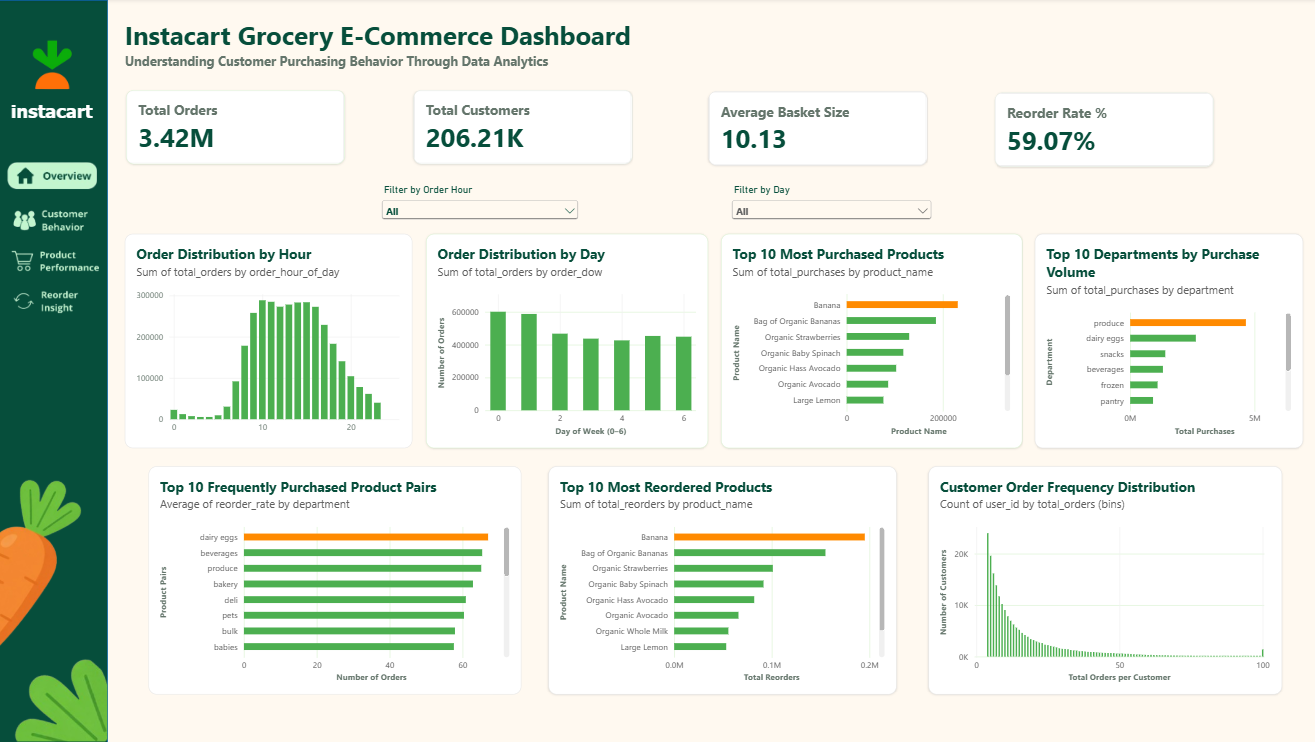

What the dashboard file says about the page in this screenshot:
{"tool":"powerbi","page":{"name":"Overview","canvas":[1920,1080],"ordinal":0},"visuals":[{"type":"shape","box":[0,0,162.5,1082.5],"z":0},{"type":"textbox","box":[187.5,25,877.5,62.5],"z":1000},{"type":"textbox","box":[187.5,57.5,735,87.5],"z":2000},{"type":"cardVisual","fields":{"Data":["Sum(KPI.Value)"]},"box":[188.6,131.4,318.3,108.3],"z":3000},{"type":"cardVisual","fields":{"Data":["Sum(KPI.Value)"]},"box":[607.1,131.4,318.3,108.3],"z":4000},{"type":"cardVisual","fields":{"Data":["Sum(KPI.Value)"]},"box":[1035.7,132.9,318.3,108.3],"z":5000},{"type":"cardVisual","fields":{"Data":["KPI.Reorder Rate %"]},"box":[1452.9,134.3,318.3,108.3],"z":6000},{"type":"clusteredColumnChart","title":"Order Distribution by Hour","fields":{"Category":["Orders by Hour.order_hour_of_day"],"Y":["Sum(Orders by Hour.total_orders)"]},"box":[188,340,418,312],"z":7000},{"type":"clusteredColumnChart","title":"Order Distribution by Day","fields":{"Category":["Orders by Day.order_dow"],"Y":["Sum(Orders by Day.total_orders)"]},"box":[626,340,410,312],"z":8000},{"type":"clusteredBarChart","title":"Top 10 Most Purchased Products","fields":{"Category":["Top Products.product_name"],"Y":["Sum(Top Products.total_purchases)"]},"box":[1054,340,438,312],"z":9000},{"type":"clusteredBarChart","title":"Top 10 Departments by Purchase Volume","fields":{"Category":["Top Departments.department"],"Y":["Sum(Top Departments.total_purchases)"]},"box":[1510,340,390,312],"z":10000},{"type":"clusteredBarChart","title":"Top 10 Frequently Purchased Product Pairs","fields":{"Category":["Reorder Departments.department"],"Y":["Avg(Reorder Departments.reorder_rate)"]},"box":[222,678,542,332],"z":11000},{"type":"clusteredBarChart","title":"Top 10 Most Reordered Products ","fields":{"Category":["Top Reorders.product_name"],"Y":["Sum(Top Reorders.total_reorders)"]},"box":[804,678,506,332],"z":12000},{"type":"clusteredColumnChart","title":"Customer Order Frequency Distribution","fields":{"Category":["Customer Frequency.total_orders (bins)"],"Y":["CountNonNull(Customer Frequency.user_id)"]},"box":[1356,678,514,332],"z":13000},{"type":"image","box":[45,56.2,72.5,76.2],"z":14000},{"type":"textbox","box":[22,146,120,150],"z":15000},{"type":"image","box":[0,578,162,502],"z":16000},{"type":"image","box":[22,954,140,126],"z":17000},{"type":"slicer","fields":{"Values":["Orders by Hour.order_hour_of_day"]},"box":[556,268,295.7,54.3],"z":18000},{"type":"slicer","fields":{"Values":["Orders by Day.order_dow"]},"box":[1066,268,300,54.3],"z":19000},{"type":"image","box":[16.2,208.5,130.6,87.8],"z":20000},{"type":"image","box":[15,304,132,36],"z":21000},{"type":"image","box":[21.8,355.5,130,43.6],"z":22000},{"type":"image","box":[5,421.7,136.4,33.6],"z":23000}]}

Visuals, with their boxes on the page's 1920x1080 design canvas (x1, y1, x2, y2). These are canvas units, not pixel positions in the 1315x742 screenshot, which may show the page scaled, cropped or inside an application window:
shape: bbox(0, 0, 162, 1082)
textbox: bbox(188, 25, 1065, 88)
textbox: bbox(188, 58, 922, 145)
cardVisual - Sum(KPI.Value): bbox(189, 131, 507, 240)
cardVisual - Sum(KPI.Value): bbox(607, 131, 925, 240)
cardVisual - Sum(KPI.Value): bbox(1036, 133, 1354, 241)
cardVisual - KPI.Reorder Rate %: bbox(1453, 134, 1771, 243)
"Order Distribution by Hour" clusteredColumnChart: bbox(188, 340, 606, 652)
"Order Distribution by Day" clusteredColumnChart: bbox(626, 340, 1036, 652)
"Top 10 Most Purchased Products" clusteredBarChart: bbox(1054, 340, 1492, 652)
"Top 10 Departments by Purchase Volume" clusteredBarChart: bbox(1510, 340, 1900, 652)
"Top 10 Frequently Purchased Product Pairs" clusteredBarChart: bbox(222, 678, 764, 1010)
"Top 10 Most Reordered Products " clusteredBarChart: bbox(804, 678, 1310, 1010)
"Customer Order Frequency Distribution" clusteredColumnChart: bbox(1356, 678, 1870, 1010)
image: bbox(45, 56, 118, 132)
textbox: bbox(22, 146, 142, 296)
image: bbox(0, 578, 162, 1080)
image: bbox(22, 954, 162, 1080)
slicer - Orders by Hour.order_hour_of_day: bbox(556, 268, 852, 322)
slicer - Orders by Day.order_dow: bbox(1066, 268, 1366, 322)
image: bbox(16, 208, 147, 296)
image: bbox(15, 304, 147, 340)
image: bbox(22, 356, 152, 399)
image: bbox(5, 422, 141, 455)
